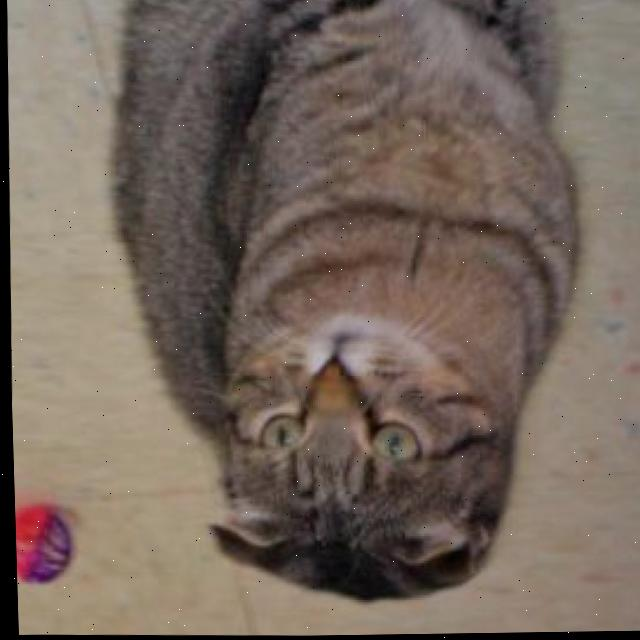Scottish Fold: (85, 0, 603, 615)
